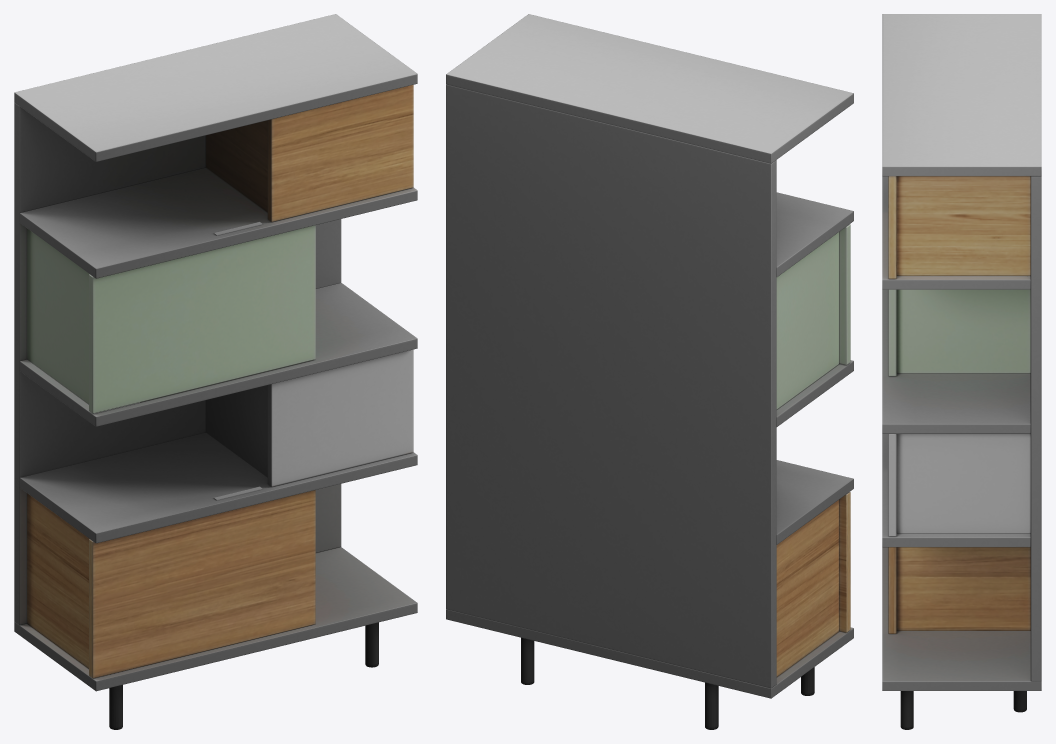
File: fowler_tall_shelving_unit_multicolour_ash.glb
The picture shows the model from 3 angles, left to right: view 1: azimuth 30°, elevation 25°; view 2: azimuth 150°, elevation 25°; view 3: azimuth 270°, elevation 25°; orthographic projection. The views are drawn at different scales.
Visible parts, largest first — view 1: GREY, DARK_BLUE, LIGHT_BLUE, YELLOW, Material__31_1; view 2: GREY, LIGHT_BLUE, DARK_BLUE, Material__31_1; view 3: GREY, DARK_BLUE, YELLOW, LIGHT_BLUE, Material__31_1.
Boxes of the visible parts, x1,y1,x2,y2 form: GREY: [14, 14, 417, 691]; DARK_BLUE: [27, 85, 413, 678]; LIGHT_BLUE: [27, 225, 315, 413]; YELLOW: [205, 349, 413, 486]; Material__31_1: [109, 622, 378, 729]; GREY: [446, 14, 853, 698]; LIGHT_BLUE: [776, 224, 850, 409]; DARK_BLUE: [776, 492, 850, 676]; Material__31_1: [521, 637, 814, 729]; GREY: [882, 14, 1041, 690]; DARK_BLUE: [888, 176, 1030, 633]; YELLOW: [888, 434, 1030, 536]; LIGHT_BLUE: [888, 289, 1030, 376]; Material__31_1: [900, 691, 1026, 729].
Size of what is drawn, in the model's own units: 80.19 by 141 by 35.38.
Materials: 6 (5 with a texture image).
